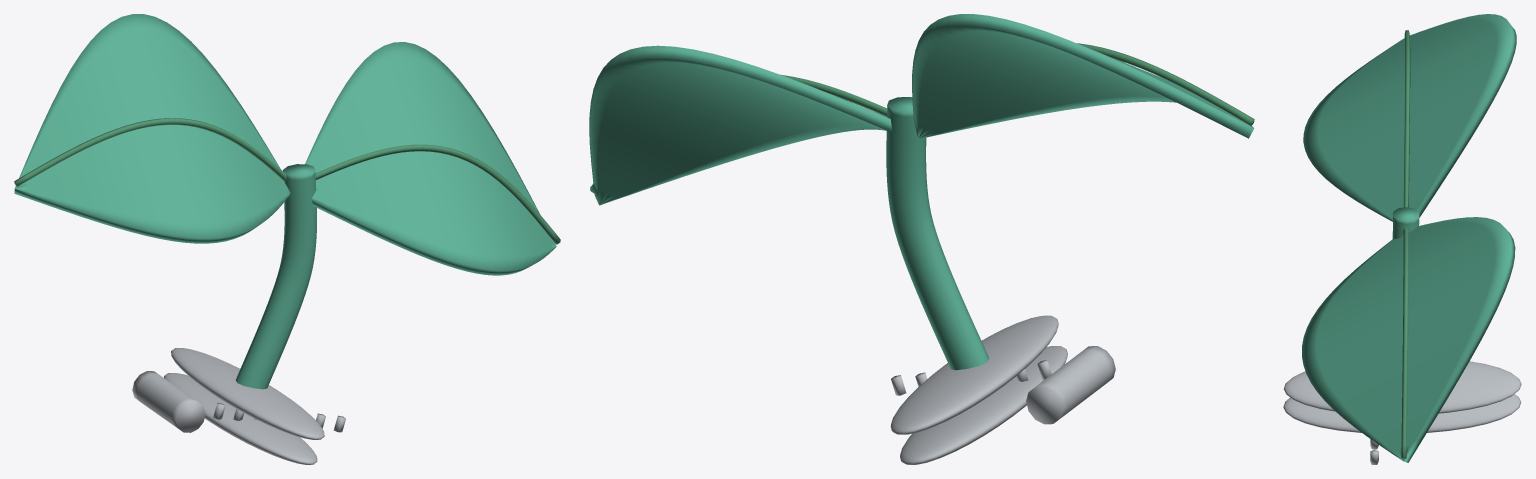
Rendered from Masculine-sidepart-pashmina249-sprout.glb.
3 renders of one model, left to right at view 1: azimuth 30°, elevation 25°; view 2: azimuth 150°, elevation 25°; view 3: azimuth 270°, elevation 25°, orthographic. The views are drawn at different scales.
Parts seen in each view (by area): view 1: 226 extra / Accessory / mint226, 226 extra / Sprout / clip silver235, 226 extra / Sprout / leaf vein235; view 2: 226 extra / Accessory / mint226, 226 extra / Sprout / clip silver235, 226 extra / Sprout / leaf vein235; view 3: 226 extra / Accessory / mint226, 226 extra / Sprout / clip silver235, 226 extra / Sprout / leaf vein235.
Boxes of the visible parts, left/top/right/bottom form: 226 extra / Accessory / mint226: left=14, top=14, right=556, bottom=389; 226 extra / Sprout / clip silver235: left=132, top=348, right=345, bottom=464; 226 extra / Sprout / leaf vein235: left=14, top=118, right=560, bottom=244; 226 extra / Accessory / mint226: left=589, top=14, right=1254, bottom=370; 226 extra / Sprout / clip silver235: left=890, top=315, right=1115, bottom=464; 226 extra / Sprout / leaf vein235: left=590, top=43, right=1254, bottom=193; 226 extra / Accessory / mint226: left=1302, top=14, right=1516, bottom=462; 226 extra / Sprout / clip silver235: left=1283, top=361, right=1521, bottom=464; 226 extra / Sprout / leaf vein235: left=1401, top=30, right=1410, bottom=458.
Bounding box in the file's own units: 0.258 × 0.1801 × 0.104.
